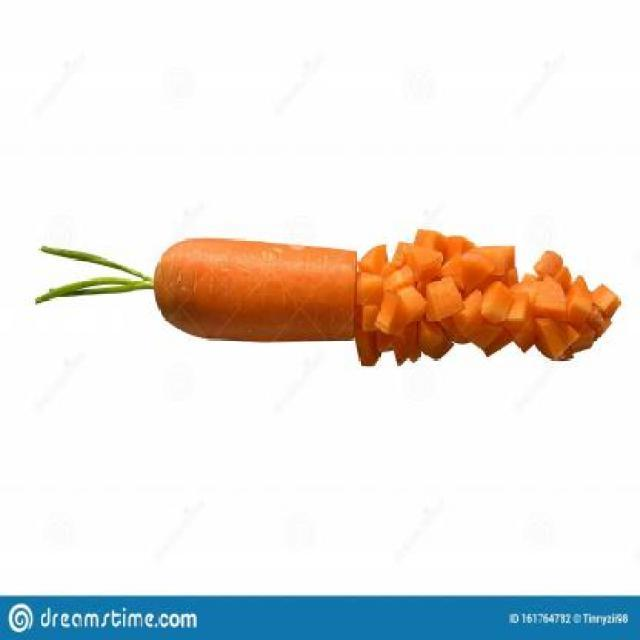carrot: (34, 235, 360, 366)
